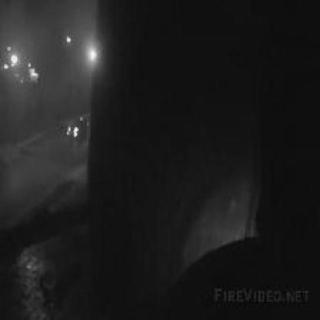other: (0, 38, 54, 95)
